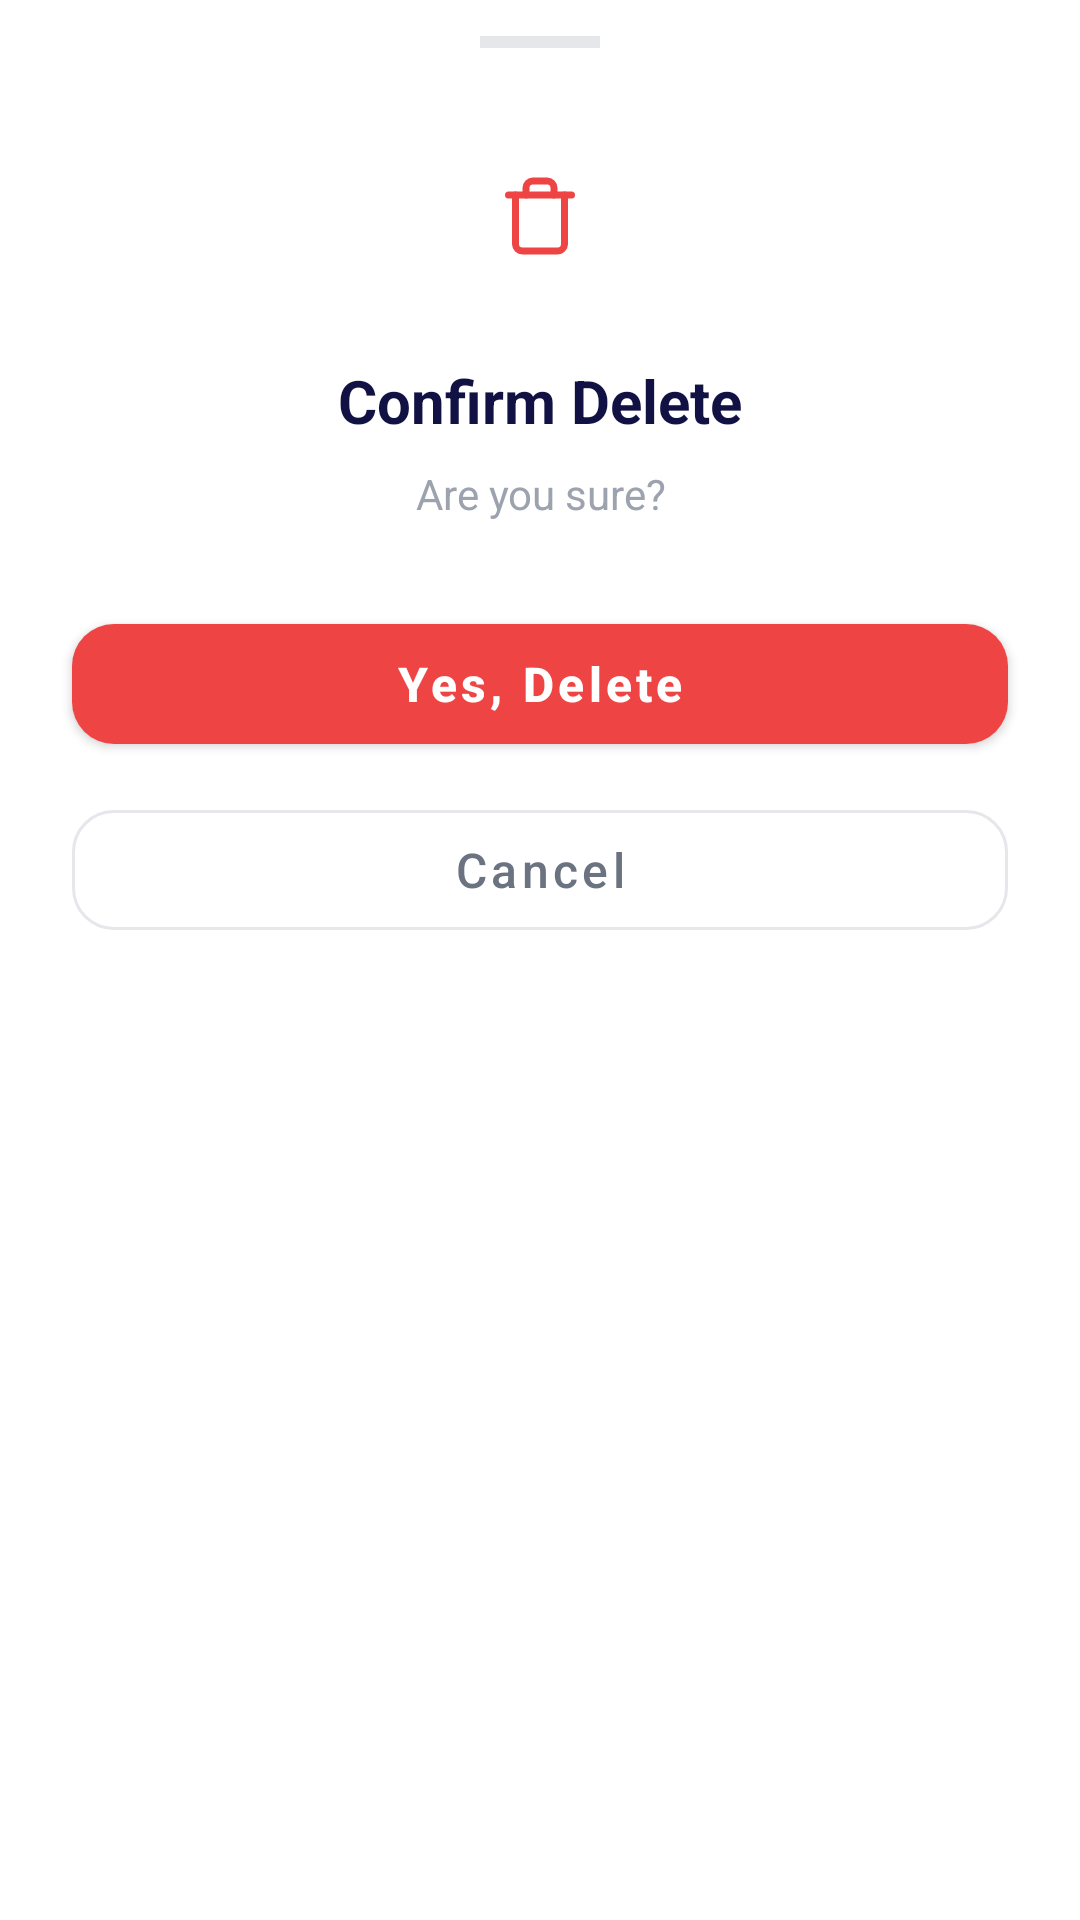

Screen size 1080×1920. Icon name, then its box in pixels as (x1, y1, x2, y2):
trash: (505, 177, 575, 255)
